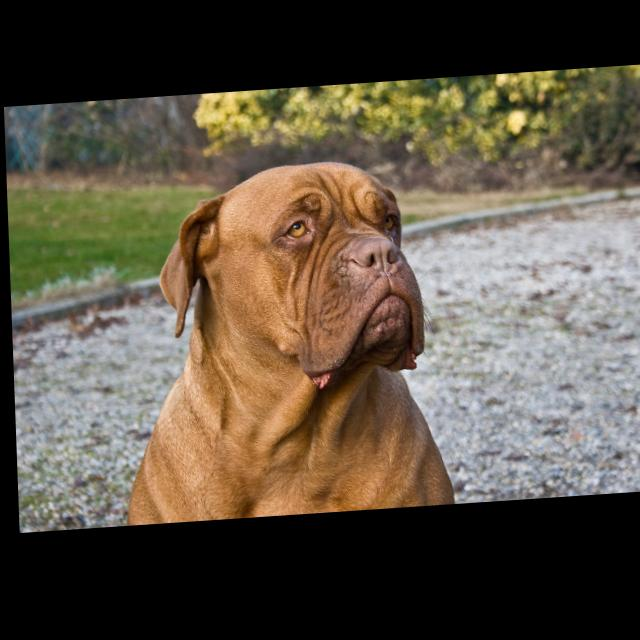dogue_de_bordeaux: (112, 159, 453, 528)
